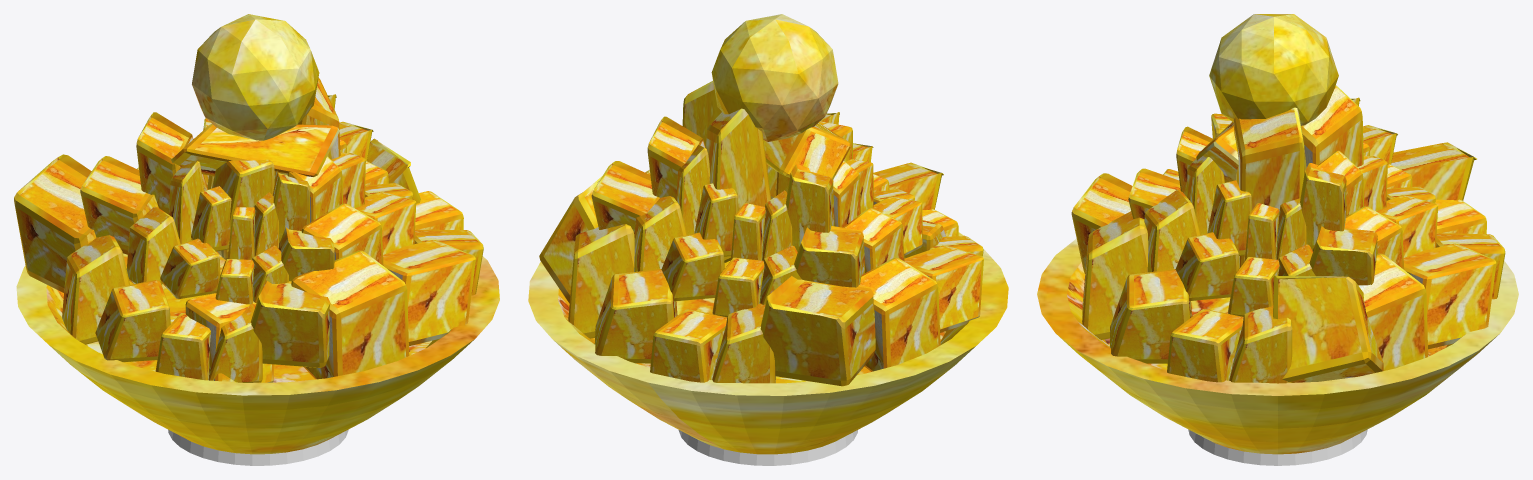
Rendered from 芒果雪花冰.fbx.
The picture shows the model from 3 angles, left to right: view 1: azimuth 30°, elevation 25°; view 2: azimuth 150°, elevation 25°; view 3: azimuth 270°, elevation 25°; orthographic projection.
Visible parts, largest first — view 1: T.芒果冰山; view 2: T.芒果冰山; view 3: T.芒果冰山.
Boxes of the visible parts, x1=… form: T.芒果冰山: x1=14, y1=14, x2=499, y2=465; T.芒果冰山: x1=528, y1=14, x2=1008, y2=465; T.芒果冰山: x1=1037, y1=14, x2=1518, y2=465.
Bounding box in the file's own units: 4000 × 3744 × 4000.
